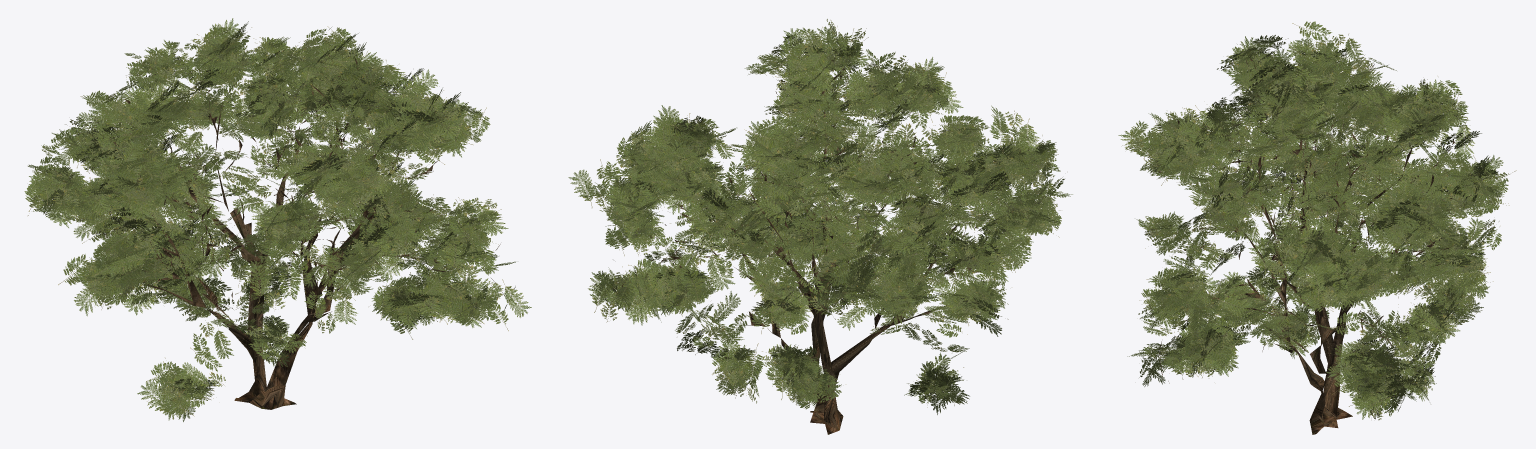
Rendered from tree_jacaranda.glb.
3 views of the same model, side by side, from view 1: azimuth 30°, elevation 25°; view 2: azimuth 150°, elevation 25°; view 3: azimuth 270°, elevation 25° (orthographic). The views are drawn at different scales.
Size of the model in its own units: 26.46 by 20.67 by 20.76.
Materials: 3 (3 with a texture image).
